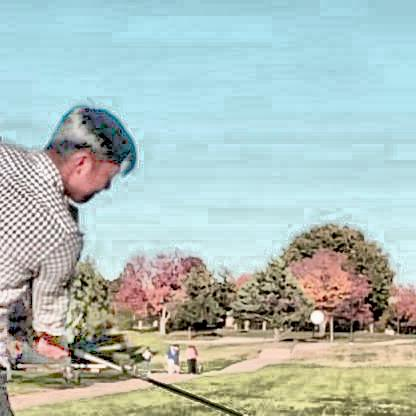golfball: (306, 305, 321, 322)
